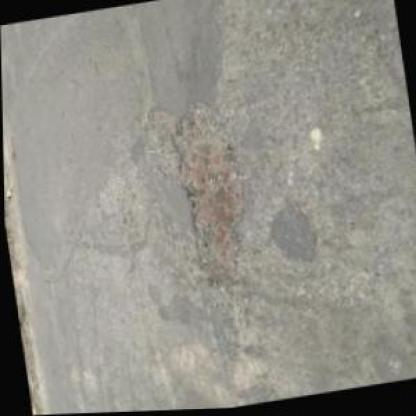pothole: (165, 93, 261, 292)
